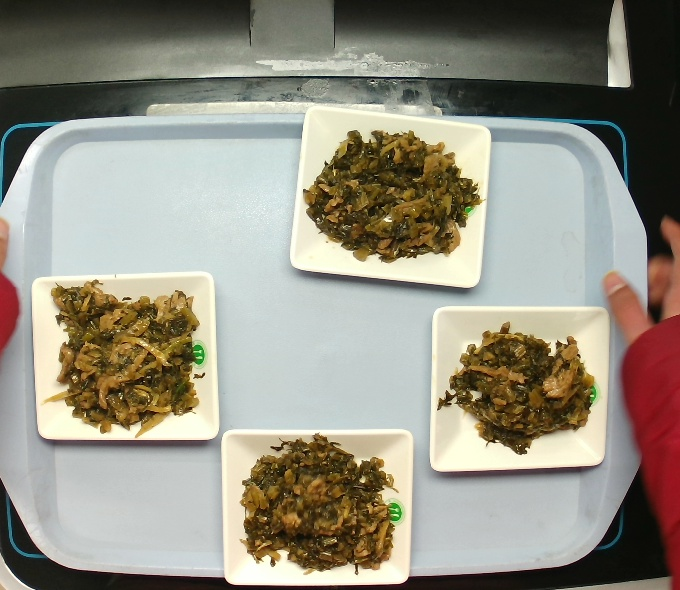wcq-XueCaiRouSi: (295, 115, 485, 273), (433, 312, 603, 467), (44, 274, 204, 435), (226, 438, 412, 569)
